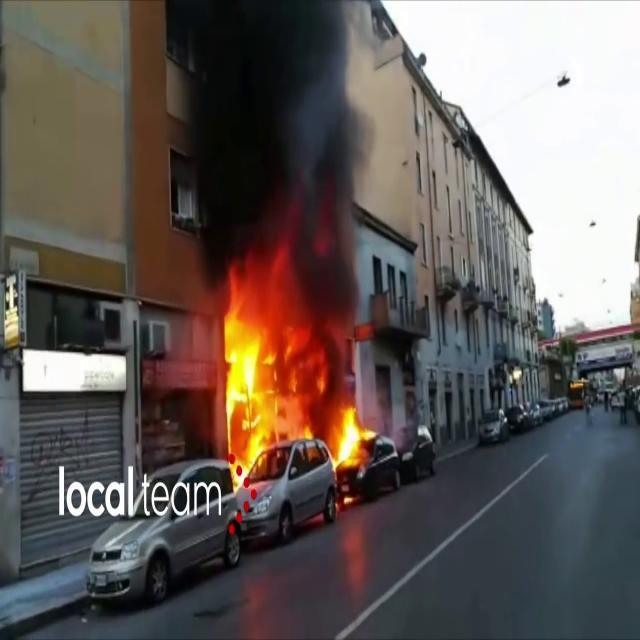Fire: (212, 264, 326, 486), (329, 398, 375, 477)
Smoke: (172, 1, 374, 304)
